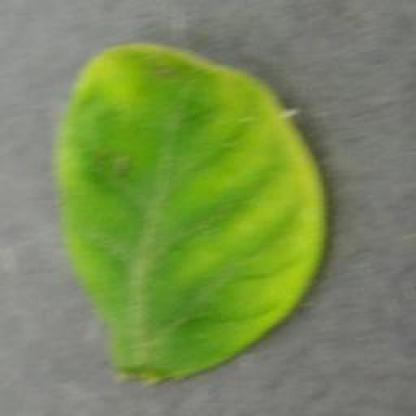good leaf: (36, 25, 342, 394)
